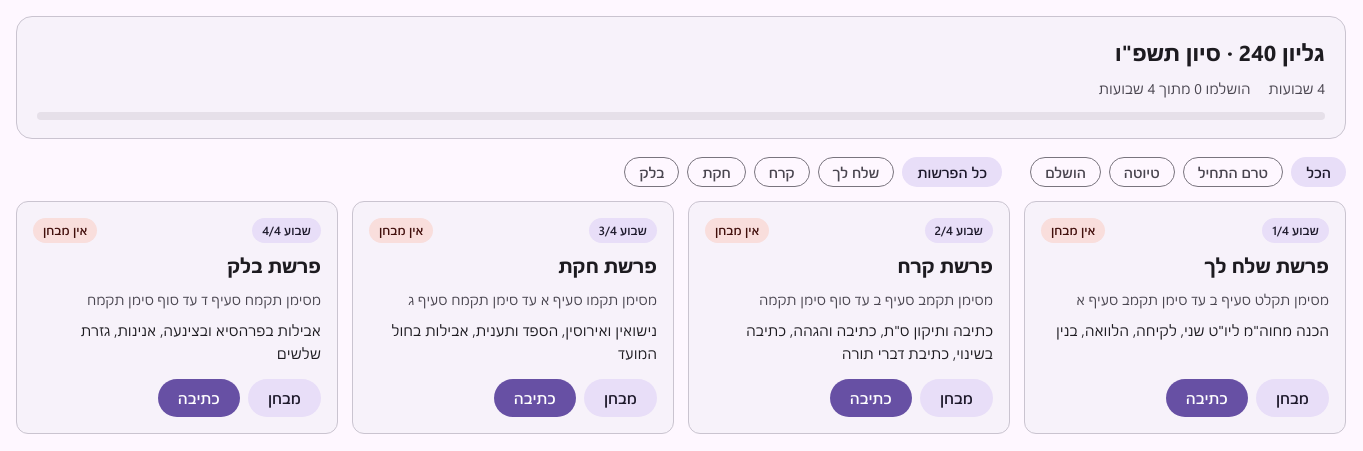
Test: ScheduleScreen — סינון › סינון ללא תוצאות מציג הודעה
Click the button "הושלם".
click(1066, 172)  # box [1030,157,1101,187]
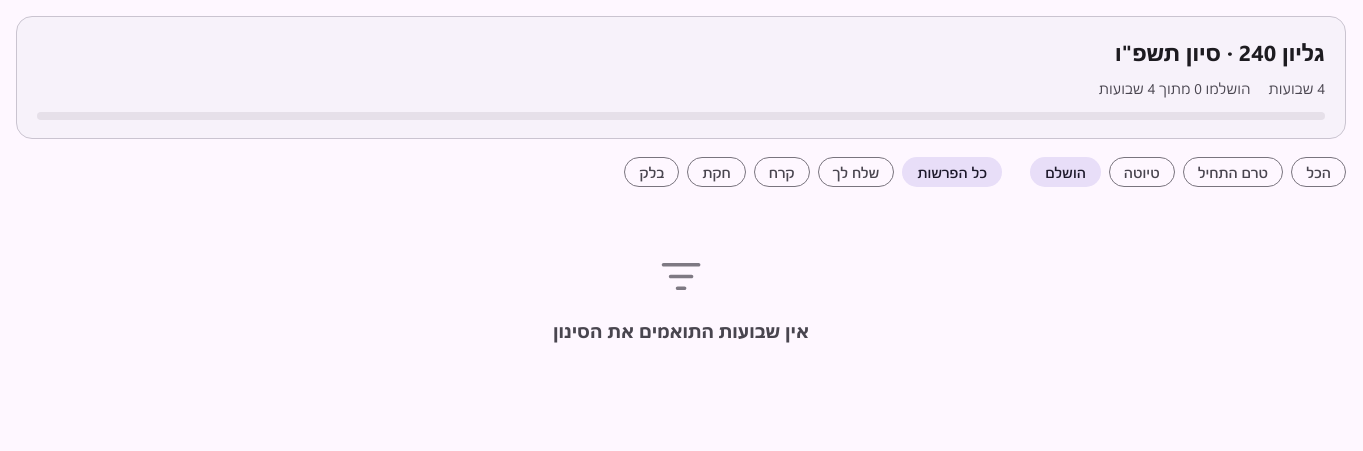
expect the text "אין שבועות התואמים את הסינון" is shown: met, box [553,317,809,346]
